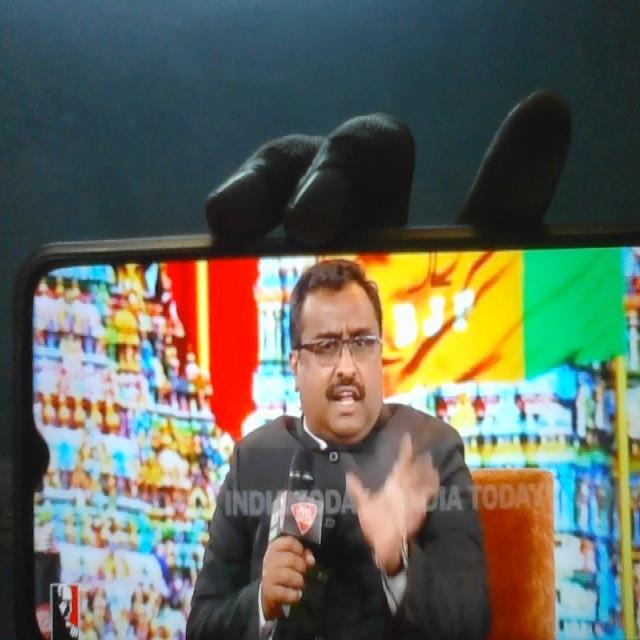fake: (289, 243, 398, 448)
